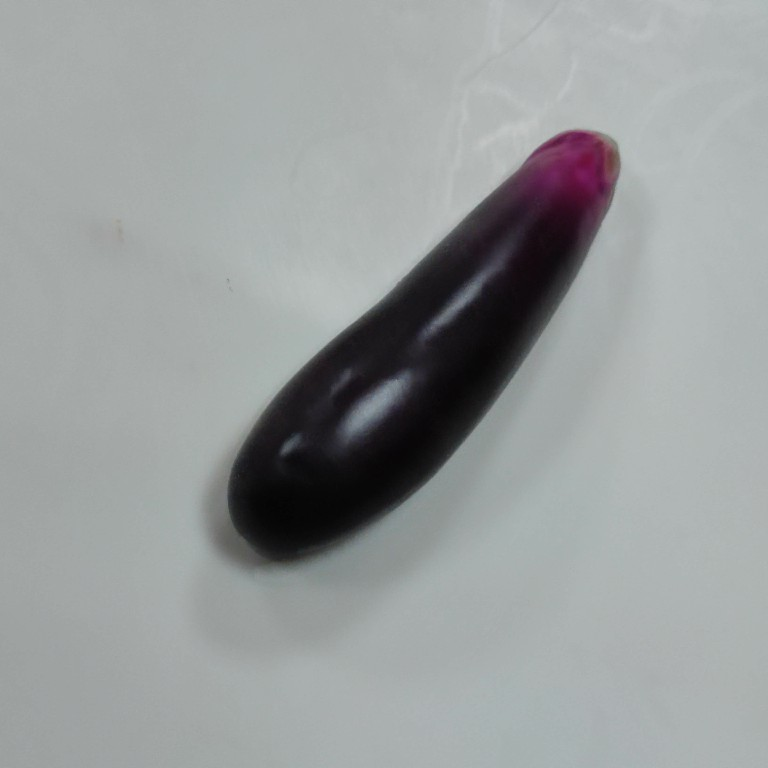fruit_eggplant: (222, 123, 623, 565)
